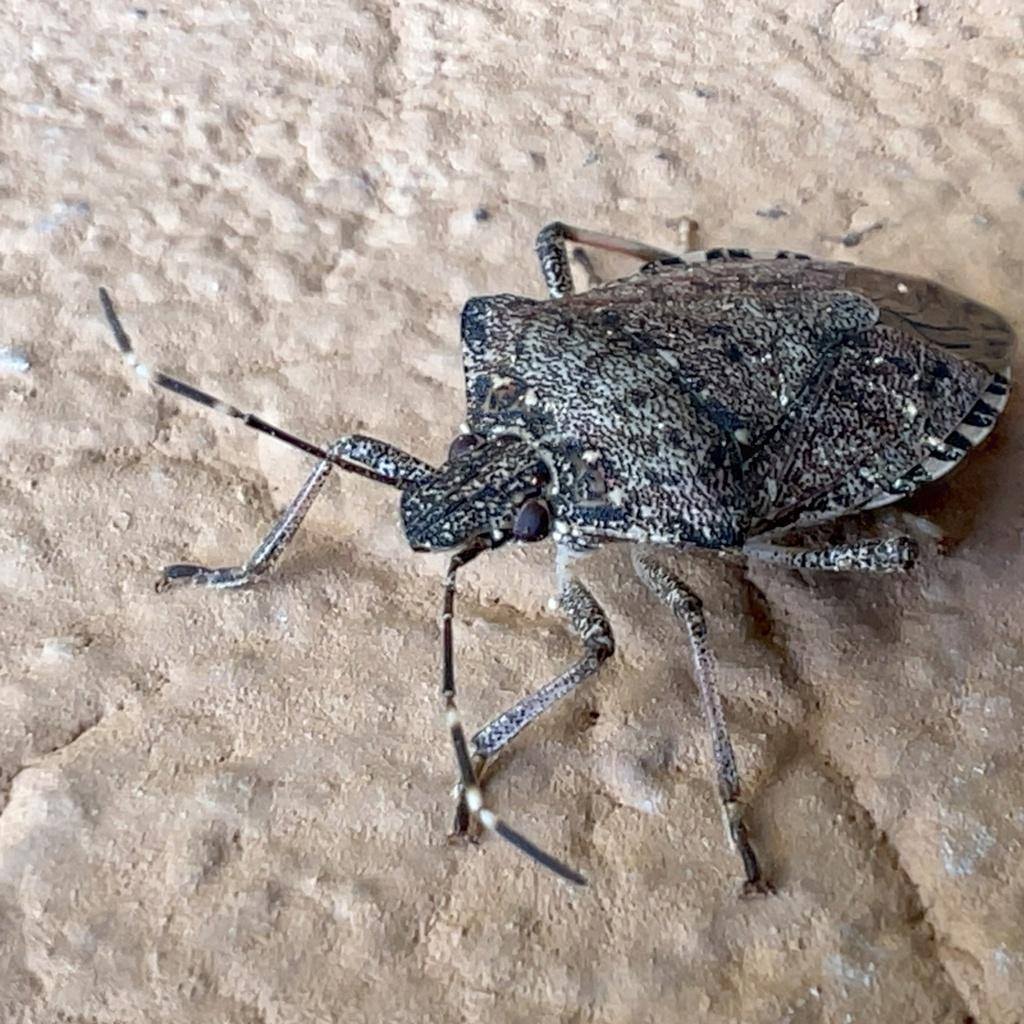stink_bugs: (0, 121, 1024, 993)
